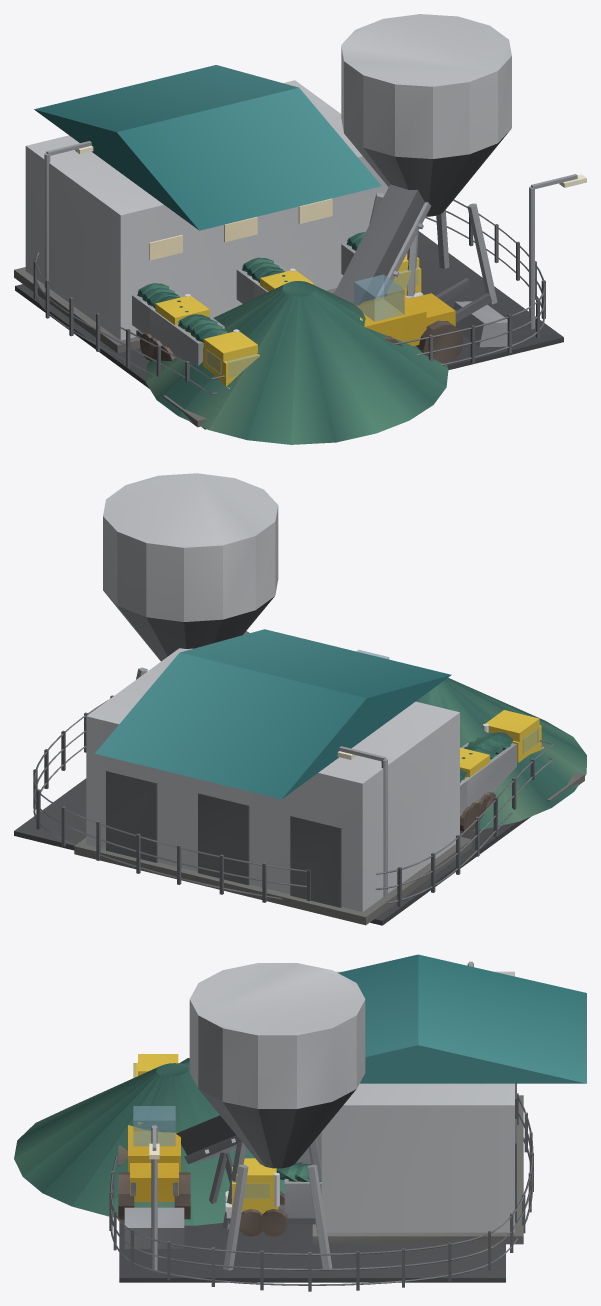
File: Haul_P3.fbx
The picture shows the model from 3 angles, top to bottom: view 1: azimuth 30°, elevation 25°; view 2: azimuth 150°, elevation 25°; view 3: azimuth 270°, elevation 25°; orthographic projection. The views are drawn at different scales.
Parts seen in each view (by area): view 1: Haul.Workshop, Haul.Stock, Haul.Hopper, Haul.Loader, Haul.Yard, Haul.Conv, Haul.Parked3, Haul.Fence, Haul.Parked0, Haul.Parked1, Haul.Lamp0, Haul.Parked2 (+1 smaller); view 2: Haul.Workshop, Haul.Hopper, Haul.Stock, Haul.Fence, Haul.Parked3, Haul.Yard, Haul.Parked0, Haul.Lamp1; view 3: Haul.Workshop, Haul.Hopper, Haul.Stock, Haul.Yard, Haul.Loader, Haul.Fence, Haul.Parked2, Haul.Conv, Haul.Lamp0, Haul.Parked3.
Part boxes in pixels (<box>): Haul.Workshop: <box>14,65,388,353</box>; Haul.Stock: <box>145,281,448,444</box>; Haul.Hopper: <box>341,14,511,304</box>; Haul.Loader: <box>354,274,507,364</box>; Haul.Yard: <box>15,231,563,429</box>; Haul.Conv: <box>334,184,430,305</box>; Haul.Parked3: <box>140,291,259,388</box>; Haul.Fence: <box>33,199,545,394</box>; Haul.Parked0: <box>132,283,209,360</box>; Haul.Parked1: <box>236,257,314,303</box>; Haul.Lamp0: <box>529,174,586,329</box>; Haul.Parked2: <box>341,232,423,298</box>; Haul.Workshop: <box>74,629,472,925</box>; Haul.Hopper: <box>103,473,278,679</box>; Haul.Stock: <box>416,677,586,830</box>; Haul.Fence: <box>33,695,553,906</box>; Haul.Parked3: <box>460,710,543,834</box>; Haul.Yard: <box>14,778,530,925</box>; Haul.Parked0: <box>460,747,490,829</box>; Haul.Lamp1: <box>337,746,387,897</box>; Haul.Workshop: <box>312,954,586,1244</box>; Haul.Hopper: <box>189,963,365,1270</box>; Haul.Stock: <box>14,1063,302,1225</box>; Haul.Yard: <box>119,1219,505,1282</box>; Haul.Loader: <box>118,1106,190,1248</box>; Haul.Fence: <box>109,1093,533,1291</box>; Haul.Parked2: <box>225,1158,321,1236</box>; Haul.Conv: <box>176,1115,241,1204</box>; Haul.Lamp0: <box>149,1125,159,1271</box>; Haul.Parked3: <box>133,1054,189,1077</box>.
Size of the model in its own units: 2730 by 1598 by 3259.
